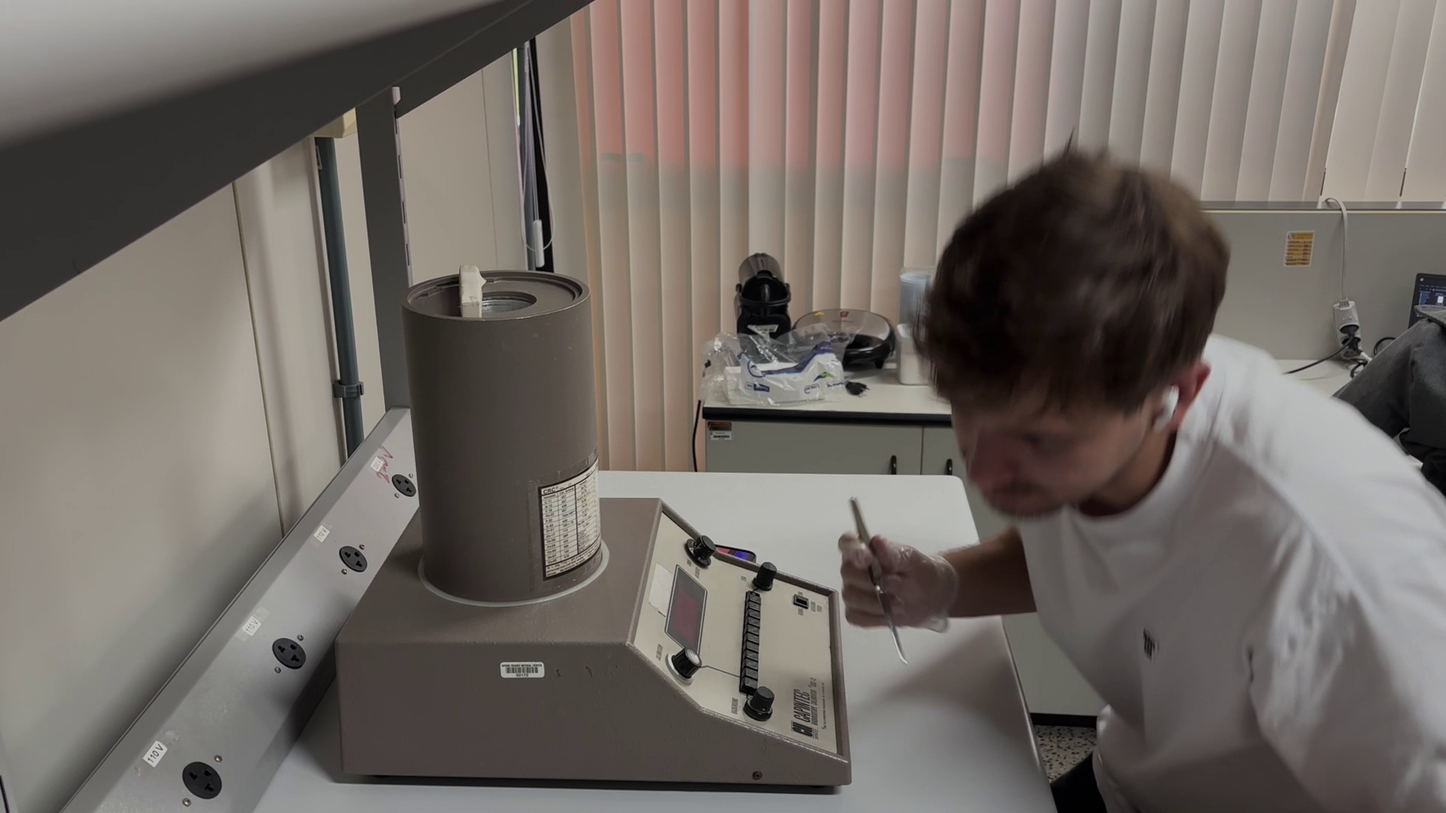Ativimetro: (398, 267, 609, 606)
Com_Luva: (837, 528, 957, 645)
